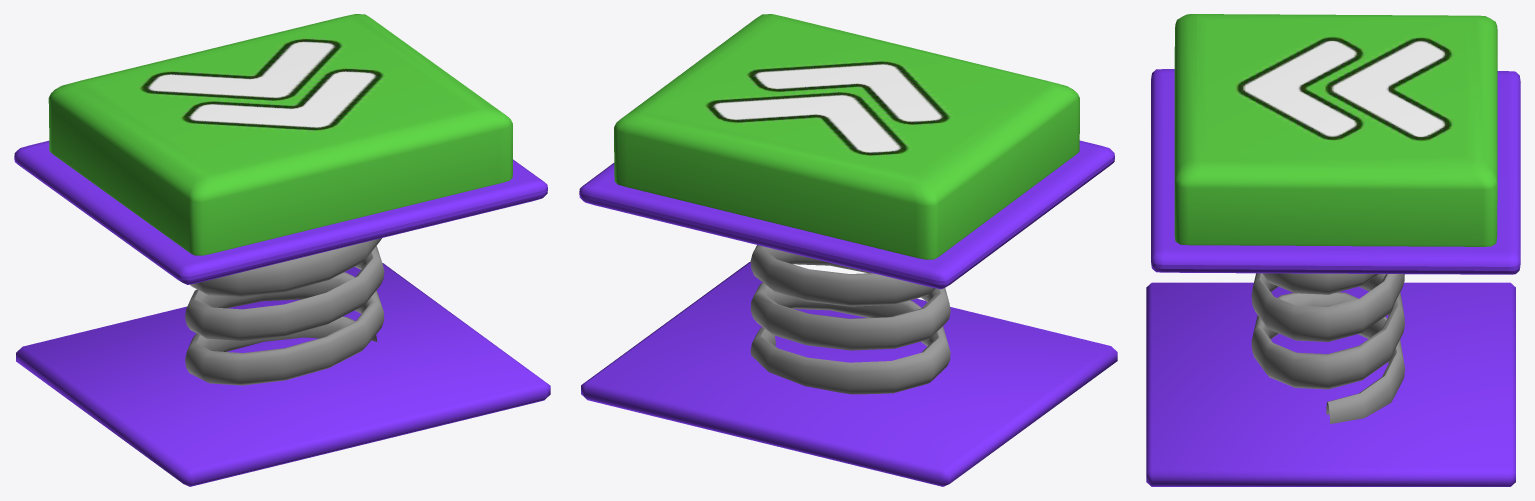
The model's file is Jump Pad (3).fbx.
3 renders of one model, left to right at view 1: azimuth 30°, elevation 25°; view 2: azimuth 150°, elevation 25°; view 3: azimuth 270°, elevation 25°, orthographic. The views are drawn at different scales.
Parts seen in each view (by area): view 1: jump_ramp, Jump Pad (3); view 2: jump_ramp, Jump Pad (3); view 3: jump_ramp, Jump Pad (3).
Boxes of the visible parts, x1,y1,x2,y2 form: jump_ramp: (14, 14, 547, 385); Jump Pad (3): (16, 263, 550, 486); jump_ramp: (579, 14, 1114, 394); Jump Pad (3): (581, 261, 1117, 486); jump_ramp: (1151, 14, 1520, 423); Jump Pad (3): (1146, 282, 1515, 486).
Bounding box in the file's own units: 4.95 × 3.68 × 4.08.
Materials: 3 (1 with a texture image).
